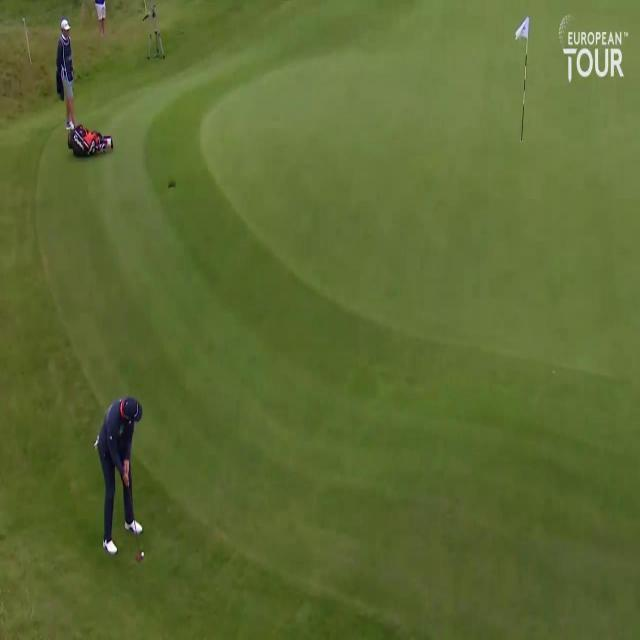GolfBall: (138, 546, 149, 562)
